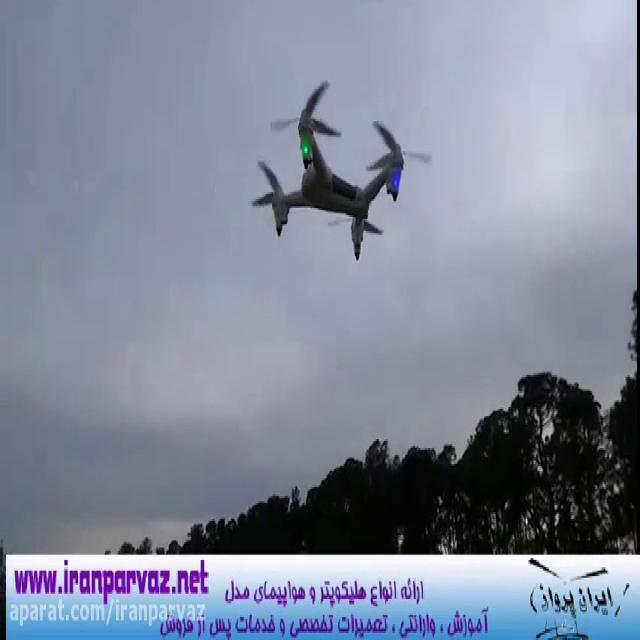drone: (247, 75, 435, 263)
